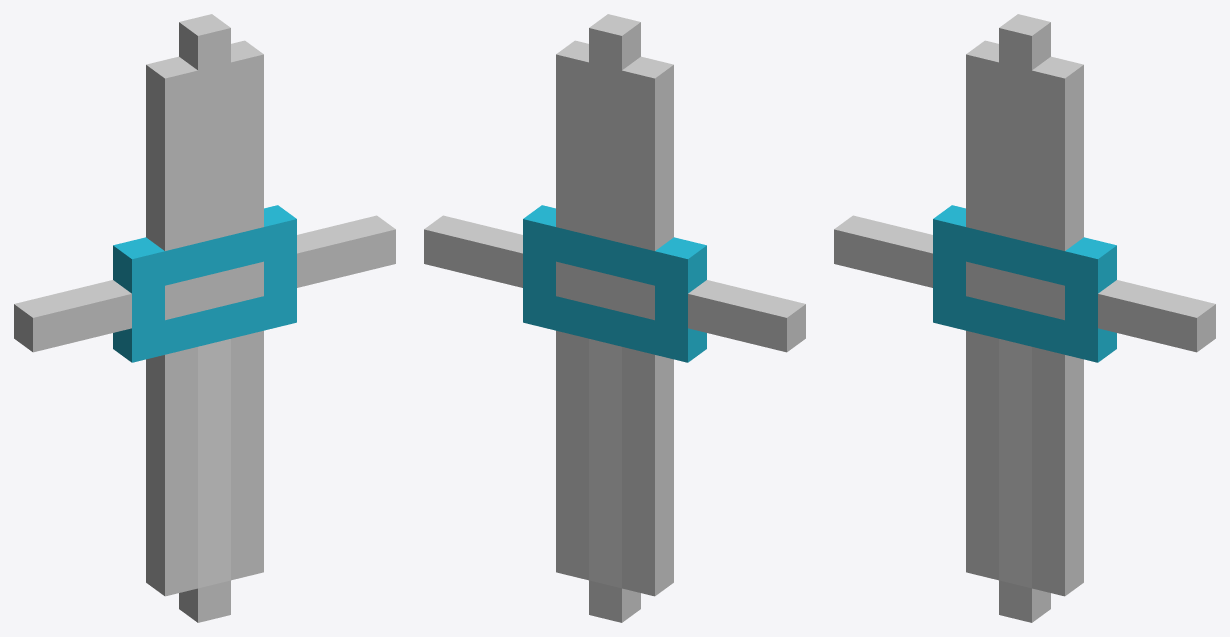
3 renders of one model, left to right at view 1: azimuth 30°, elevation 25°; view 2: azimuth 150°, elevation 25°; view 3: azimuth 330°, elevation 25°, orthographic.
Parts seen in each view (by area): view 1: ObjObject; view 2: ObjObject; view 3: ObjObject.
Part boxes in pixels (box(x1,y1,x2,y2)): ObjObject: box(14, 14, 395, 622); ObjObject: box(424, 14, 805, 622); ObjObject: box(834, 14, 1215, 622).
Size of the model in its own units: 110 by 170 by 10.
